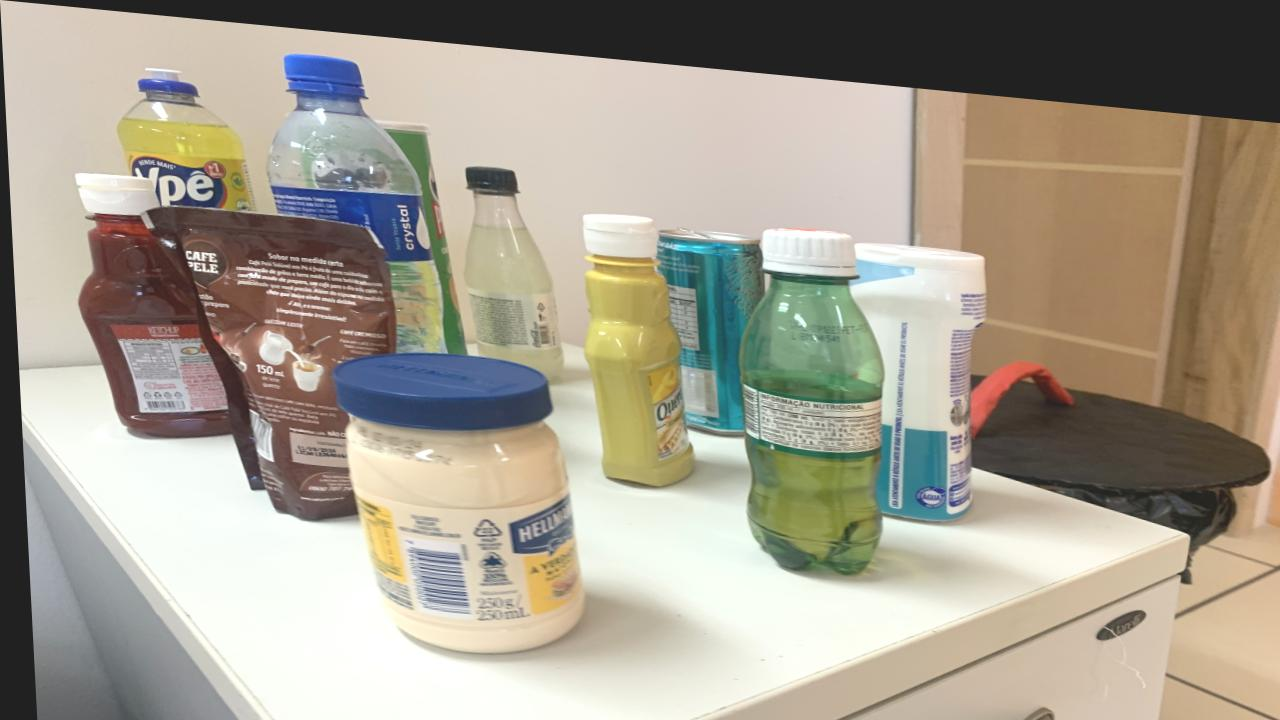Cleaner-Cleanup_Items: (848, 225, 984, 503)
Coffee-Pantry_Items: (146, 203, 393, 515)
Detergent-Cleanup_Items: (117, 65, 253, 206)
Guarana-Drinks: (736, 212, 882, 558)
Ketchup-Pantry_Items: (74, 172, 227, 435)
Mayonnaise-Pantry_Items: (329, 345, 578, 644)
Mustard-Pantry_Items: (582, 202, 689, 474)
Pringles-Snacks: (376, 113, 463, 345)
Soda-Drinks: (462, 157, 560, 367)
Tea-Drinks: (655, 215, 762, 421)
Water_Bottle-Drinks: (265, 48, 443, 345)
